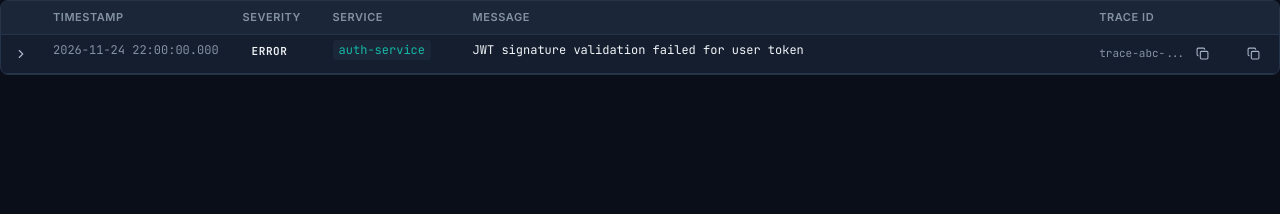
Scenario: Phase 2 UI and Interaction Components › renders LogTable with expandable detail rows and structured metadata
Expected: the text "auth-service" is shown, [333, 40, 431, 60]
Expected: the text "ERROR" is shown, [252, 44, 287, 58]
// Click to expand row
Click the text "JWT signature validation failed for user token" at (638, 50), box [473, 42, 804, 58]
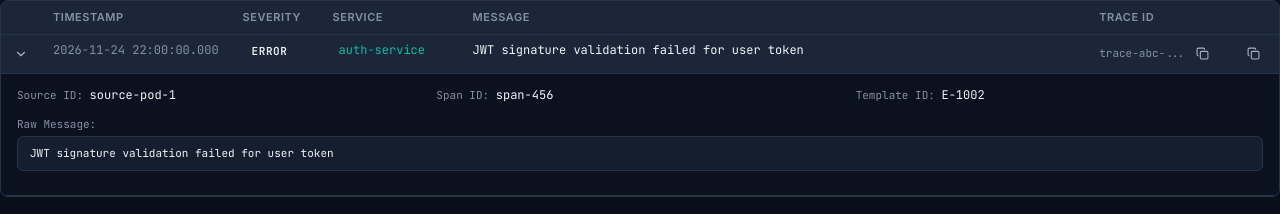
Now the text "span-456" is shown, box [496, 86, 553, 102]
Now the text "source-pod-1" is shown, box [90, 86, 176, 102]
Now the text "E-1002" is shown, box [942, 86, 985, 102]
